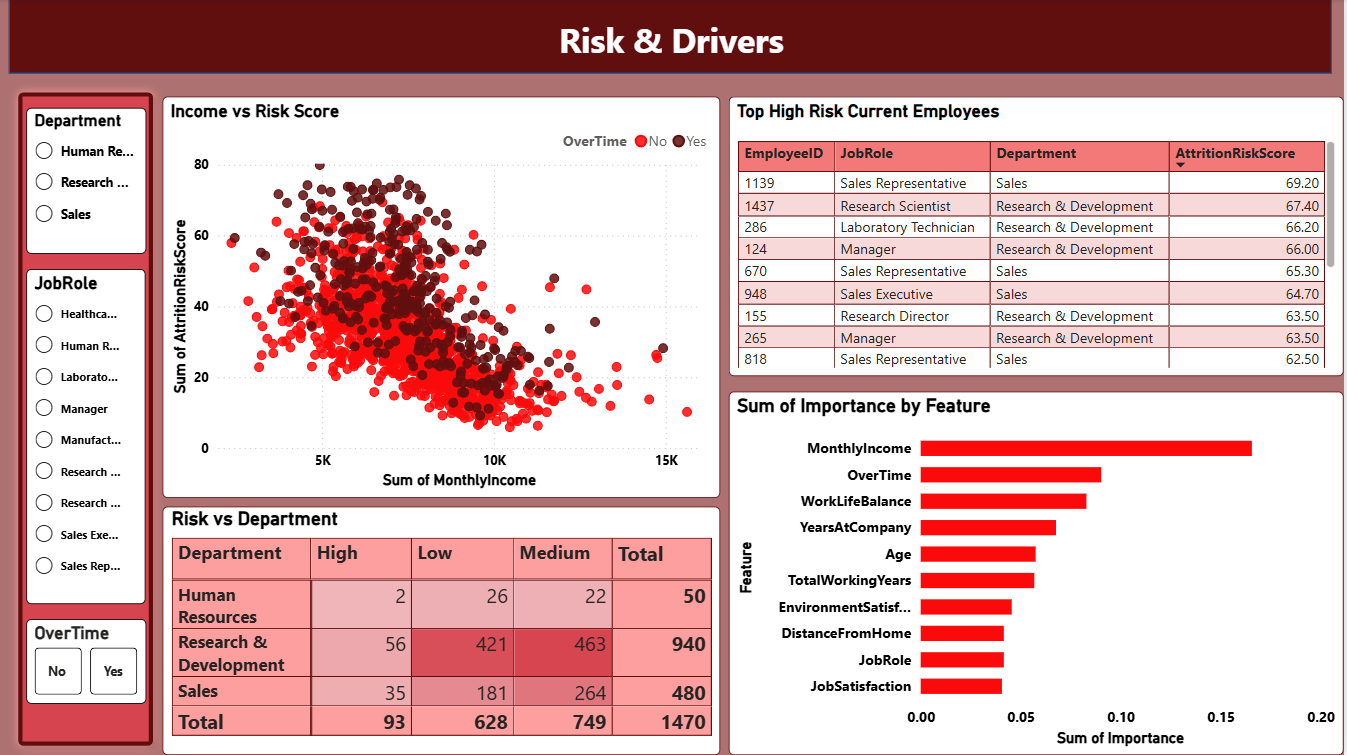

This screenshot's page, from the dashboard's own definition file:
{"tool":"powerbi","page":{"name":"Risk & Drivers","canvas":[1280,720],"ordinal":1},"visuals":[{"type":"shape","box":[8.9,0,1260.1,71.2],"z":0},{"type":"textbox","box":[8.9,12.5,1261.9,58.7],"z":1000},{"type":"clusteredBarChart","fields":{"Category":["FeatureImportance.Feature"],"Y":["Sum(FeatureImportance.Importance)"]},"box":[694.1,373.8,585.7,346.4],"z":2000},{"type":"pivotTable","title":"Risk vs Department","fields":{"Columns":["EmployeeData.RiskCategory"],"Rows":["EmployeeData.Department"],"Values":["EmployeeData.Total Employees"]},"box":[154.8,483.3,531,236.9],"z":3000},{"type":"scatterChart","title":"Income vs Risk Score","fields":{"Category":["EmployeeData.EmployeeID"],"Series":["EmployeeData.OverTime"],"X":["Sum(EmployeeData.MonthlyIncome)"],"Y":["Sum(EmployeeData.AttritionRiskScore)"]},"box":[154.8,92.9,531,382.1],"z":4000},{"type":"tableEx","title":"Top High Risk Current Employees","fields":{"Values":["EmployeeData.EmployeeID","EmployeeData.JobRole","EmployeeData.Department","EmployeeData.AttritionRiskScore"]},"box":[694.1,92.9,585.7,266.7],"z":5000},{"type":"shape","box":[8.3,79.8,146.4,640.5],"z":6000},{"type":"listSlicer","fields":{"Values":["EmployeeData.Department"]},"box":[25,103.6,114.3,139.3],"z":7000},{"type":"listSlicer","fields":{"Values":["EmployeeData.JobRole"]},"box":[25.2,257.7,113.9,318.8],"z":8000},{"type":"advancedSlicerVisual","fields":{"Values":["EmployeeData.OverTime"]},"box":[25,590.5,114.3,81],"z":9000}]}

Visuals, with their boxes in screenshot pixels (x1, y1, x2, y2), scaled from the page's 1280x720 canvas onto the 1347x755 screenshot:
shape: <region>9, 0, 1335, 75</region>
textbox: <region>9, 13, 1337, 75</region>
clusteredBarChart - FeatureImportance.Feature x Sum(FeatureImportance.Importance): <region>730, 392, 1346, 754</region>
"Risk vs Department" pivotTable: <region>163, 507, 722, 754</region>
"Income vs Risk Score" scatterChart: <region>163, 97, 722, 498</region>
"Top High Risk Current Employees" tableEx: <region>730, 97, 1346, 377</region>
shape: <region>9, 84, 163, 754</region>
listSlicer - EmployeeData.Department: <region>26, 109, 147, 255</region>
listSlicer - EmployeeData.JobRole: <region>27, 270, 146, 605</region>
advancedSlicerVisual - EmployeeData.OverTime: <region>26, 619, 147, 704</region>
